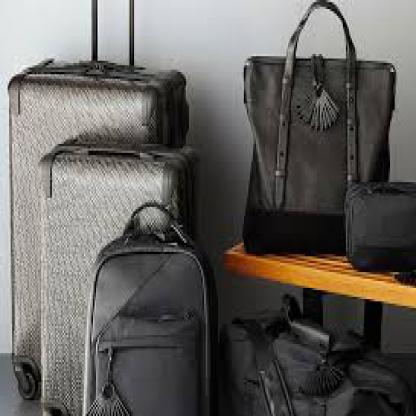maleta: (3, 32, 195, 412), (30, 123, 206, 404)
morral: (76, 198, 227, 414)
